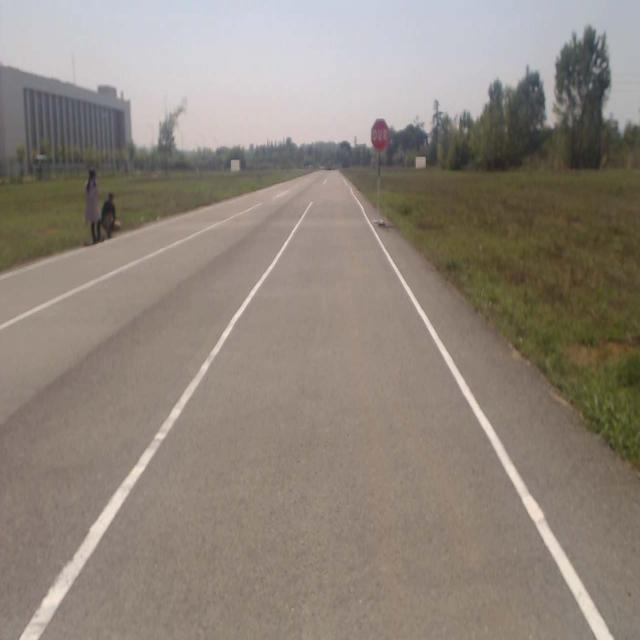dur: (371, 117, 388, 151)
